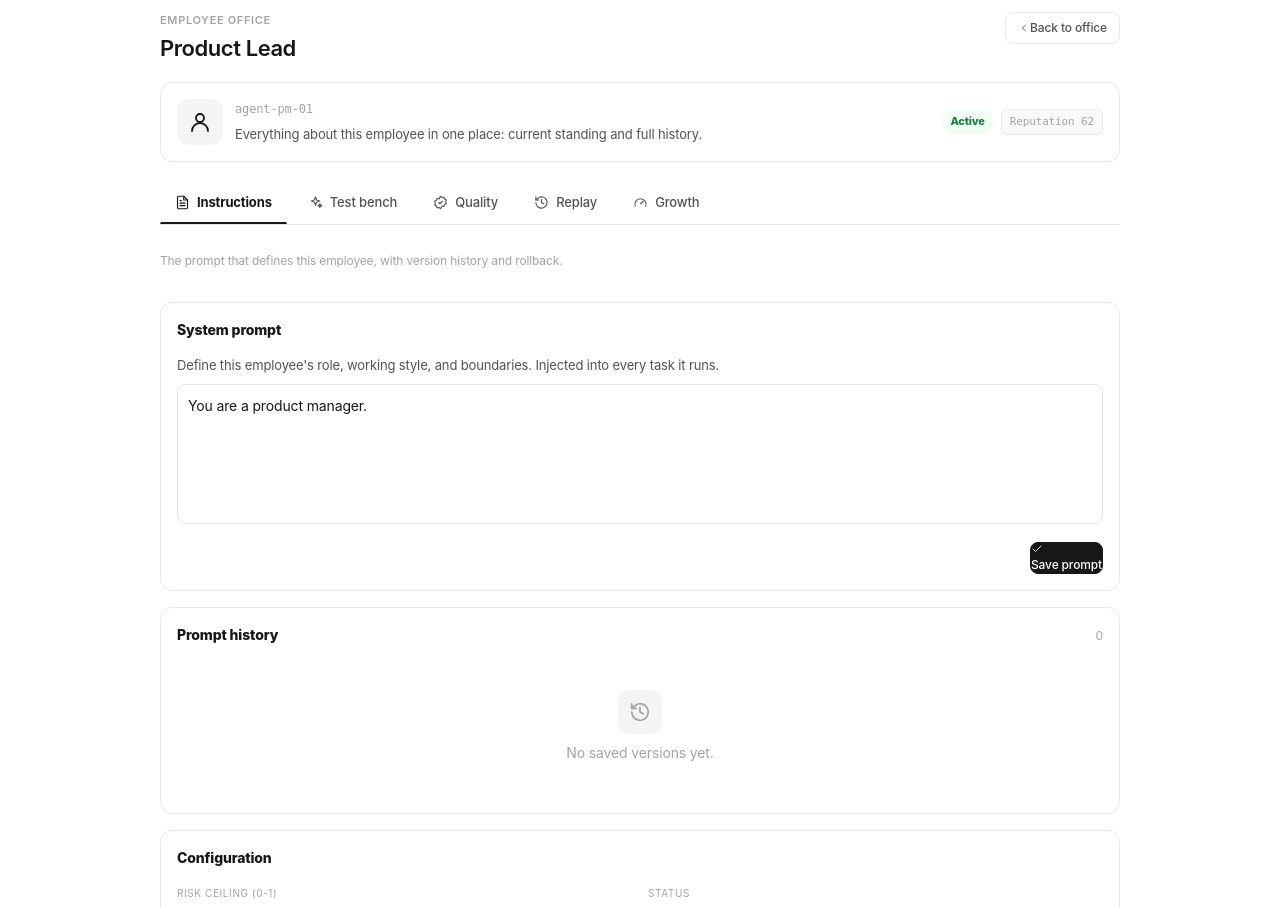
Employee office (5 areas) › switches to the test bench (branded playground, multi-model compare)
The width and height of the screenshot is (1280, 908).
Click the button "Test bench" at x=352, y=203, box [293, 182, 412, 224]
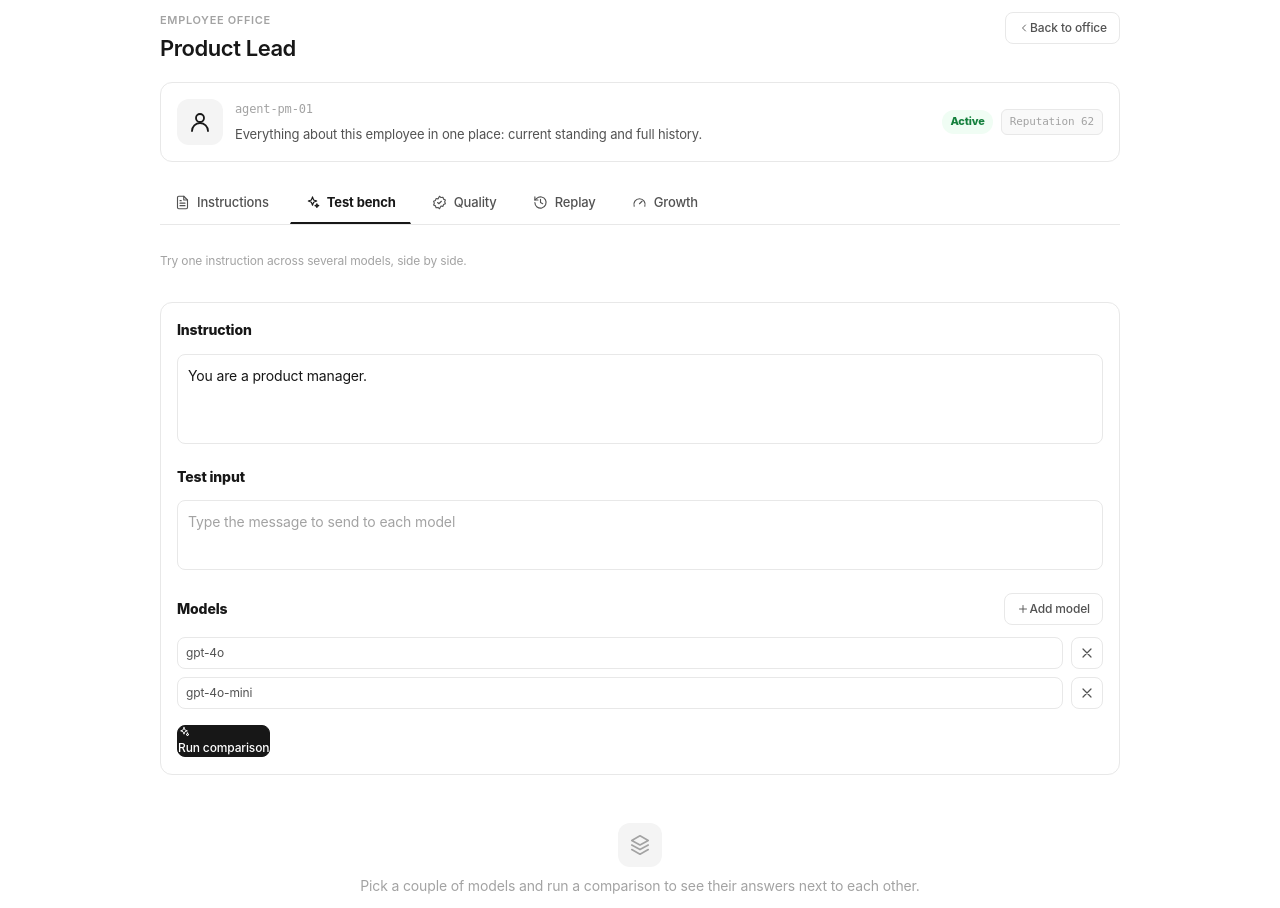
Now the heading "Test input" is shown, box [177, 466, 245, 488]
Now the button "Run comparison" is shown, box [177, 725, 270, 757]
